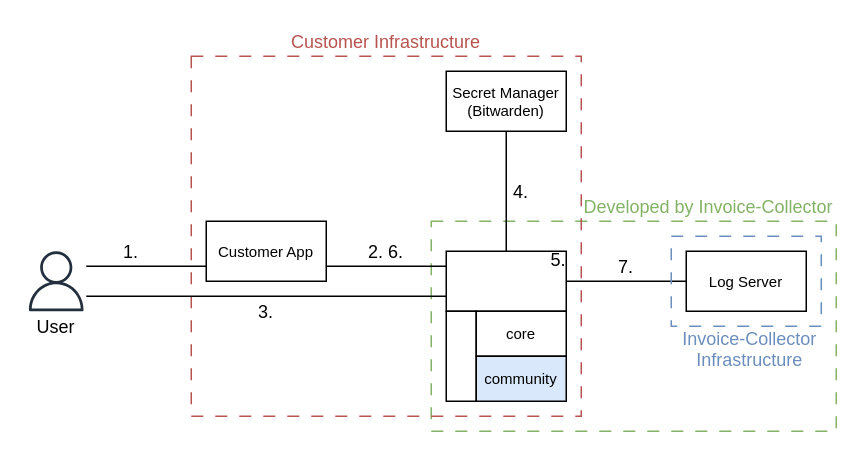
The diagram is 863 pixels wide and 458 high, and some of its shapes have lost their labels. Here are the shapes that lost their labels. From the top down, the box of each, then its label:
(445, 250, 566, 311): Invoice-Collector (Docker)
(445, 310, 476, 401): collectors
